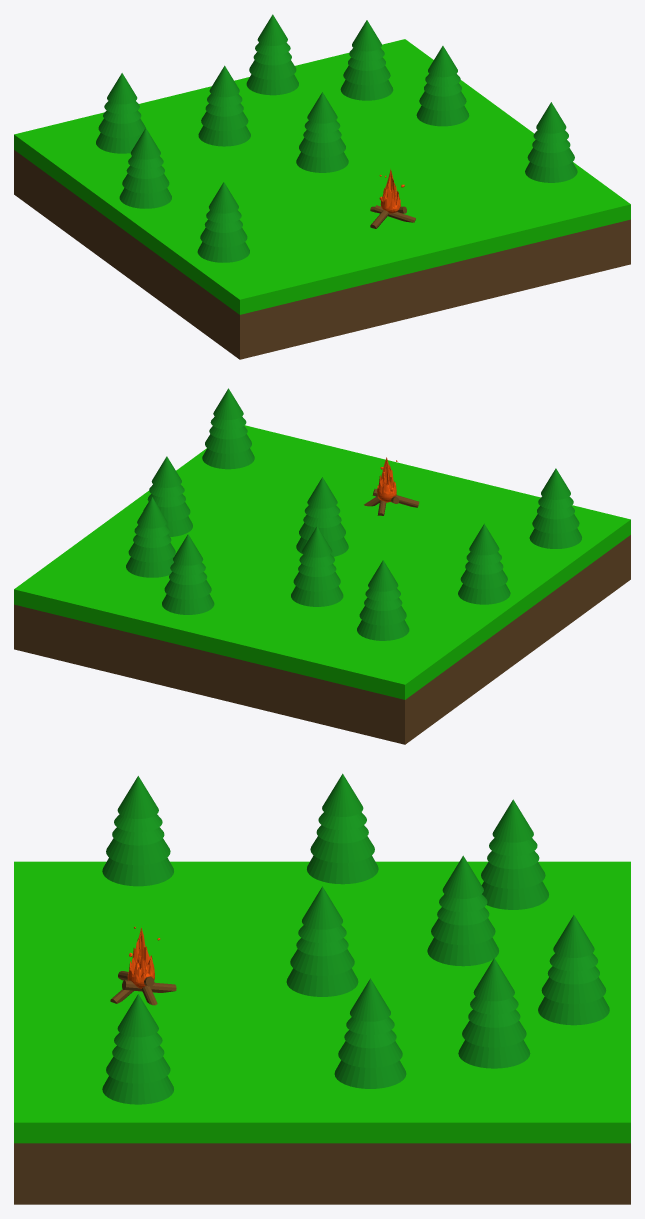
File: fire in woods.fbx
The picture shows the model from 3 angles, top to bottom: view 1: azimuth 30°, elevation 25°; view 2: azimuth 150°, elevation 25°; view 3: azimuth 270°, elevation 25°; orthographic projection. The views are drawn at different scales.
Parts seen in each view (by area): view 1: Cube; view 2: Cube; view 3: Cube.
Boxes of the visible parts, x1,y1,x2,y2 form: Cube: (14, 14, 630, 359); Cube: (14, 388, 630, 744); Cube: (14, 773, 630, 1204).
Bounding box in the file's own units: 2362 × 794 × 2362.
